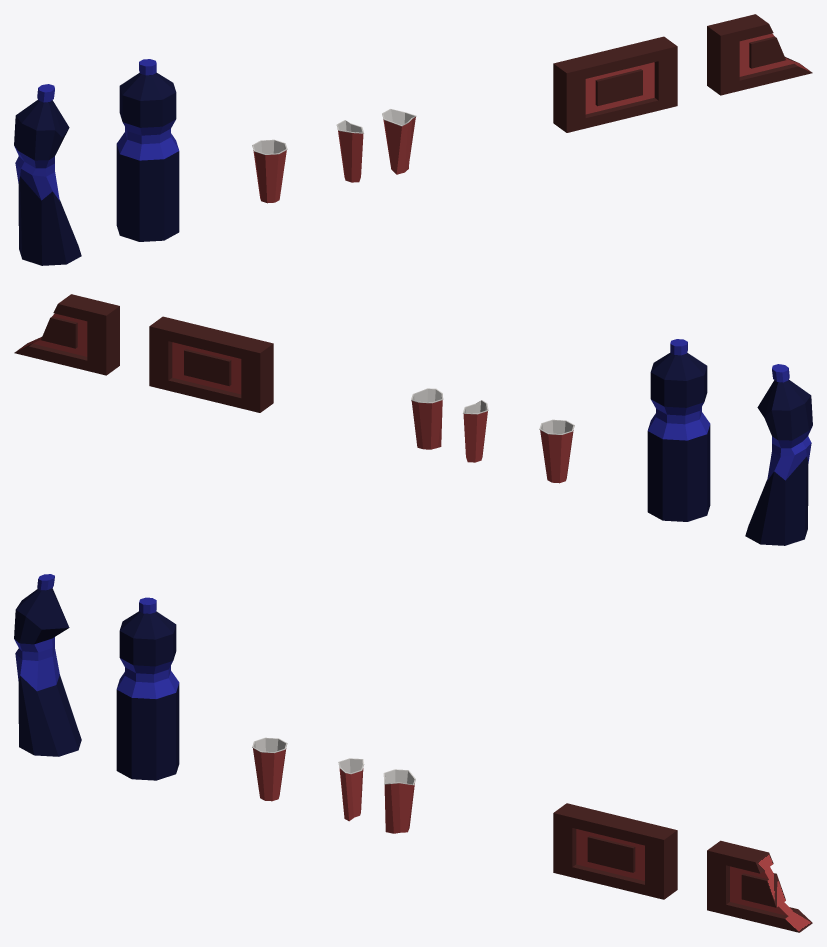
The model's file is Waste Debris.fbx.
3 renders of one model, top to bottom at view 1: azimuth 30°, elevation 25°; view 2: azimuth 150°, elevation 25°; view 3: azimuth 330°, elevation 25°, orthographic.
Parts seen in each view (by area): view 1: Water Bottle, Brick, Water Bottle Broken, Brick Broken, Plastic Glass, Plastic Glass Broken 2, Plastic Glass Broken 1; view 2: Water Bottle, Brick, Water Bottle Broken, Brick Broken, Plastic Glass, Plastic Glass Broken 2, Plastic Glass Broken 1; view 3: Water Bottle, Brick, Water Bottle Broken, Brick Broken, Plastic Glass Broken 2, Plastic Glass, Plastic Glass Broken 1.
Part boxes in pixels (x1,y1,x2,y2): Water Bottle: [116, 59, 179, 241]; Brick: [553, 36, 677, 132]; Water Bottle Broken: [14, 84, 81, 265]; Brick Broken: [707, 14, 812, 95]; Plastic Glass: [252, 139, 287, 203]; Plastic Glass Broken 2: [382, 109, 416, 174]; Plastic Glass Broken 1: [336, 120, 363, 182]; Water Bottle: [647, 339, 710, 521]; Brick: [149, 316, 273, 412]; Water Bottle Broken: [745, 364, 812, 545]; Brick Broken: [14, 294, 119, 375]; Plastic Glass: [539, 419, 574, 483]; Plastic Glass Broken 2: [411, 388, 443, 449]; Plastic Glass Broken 1: [463, 400, 488, 462]; Water Bottle: [116, 597, 179, 780]; Brick: [553, 803, 677, 899]; Water Bottle Broken: [14, 574, 81, 756]; Brick Broken: [707, 840, 812, 932]; Plastic Glass Broken 2: [383, 769, 415, 833]; Plastic Glass: [252, 737, 287, 801]; Plastic Glass Broken 1: [338, 758, 364, 821].
Size of the model in its own units: 1.06 by 0.2154 by 0.0758.
